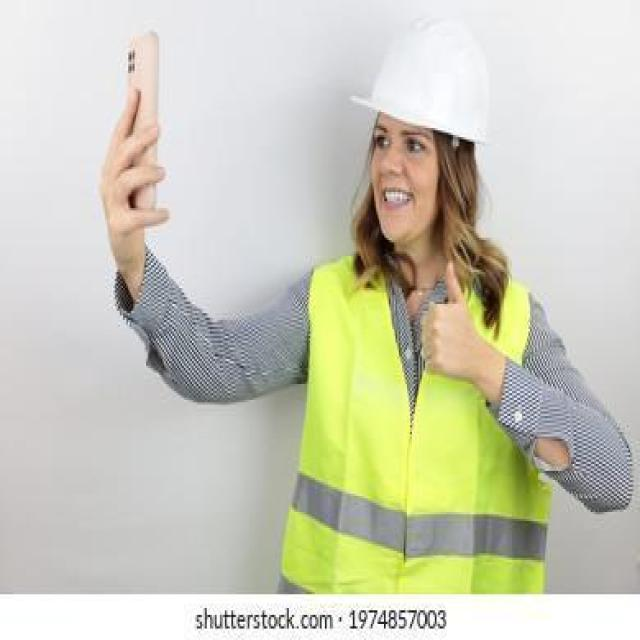helmet: (350, 16, 492, 146)
